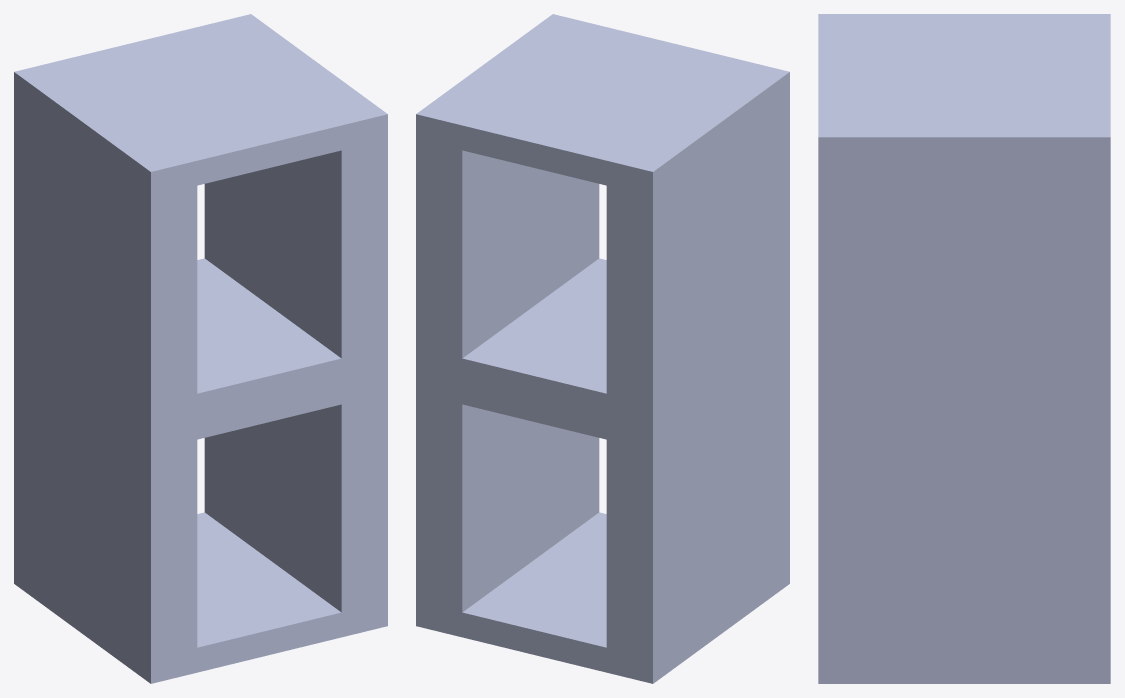
File: cinder.dae
The picture shows the model from 3 angles, left to right: view 1: azimuth 30°, elevation 25°; view 2: azimuth 150°, elevation 25°; view 3: azimuth 270°, elevation 25°; orthographic projection. The views are drawn at different scales.
Visible parts, largest first — view 1: Actor0; view 2: Actor0; view 3: Actor0.
Boxes of the visible parts, bbox=[...] form: Actor0: bbox=[14, 14, 387, 683]; Actor0: bbox=[416, 14, 789, 683]; Actor0: bbox=[818, 14, 1110, 683].
Size of the model in its own units: 0.189 by 0.39 by 0.189.
